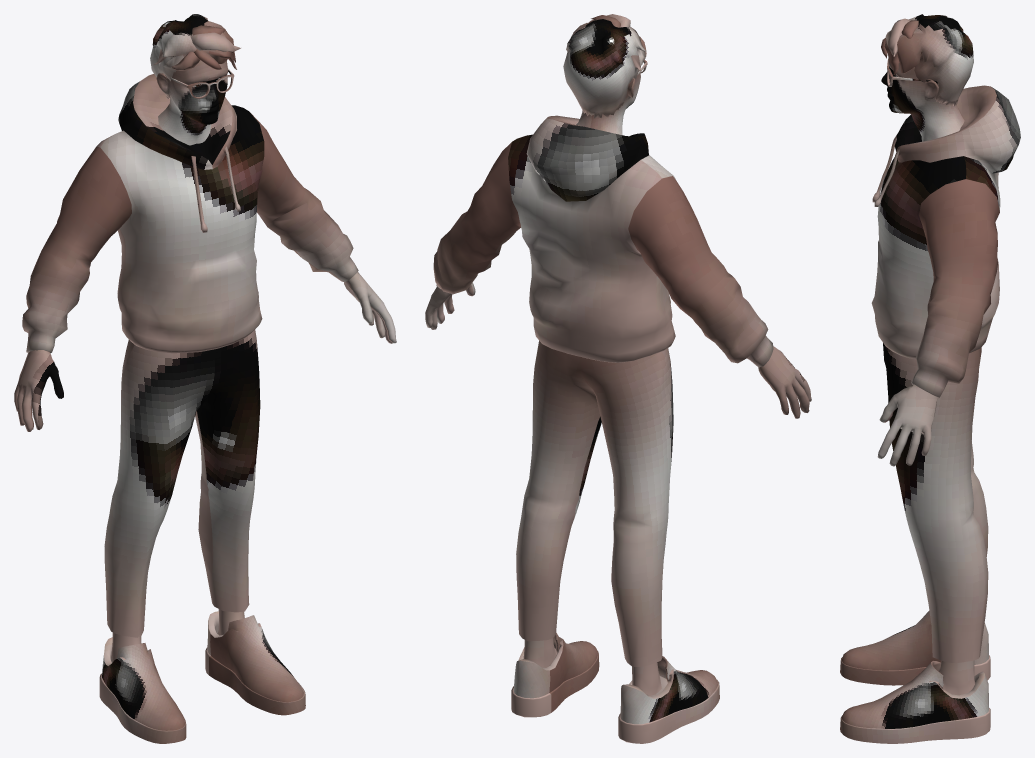
3 renders of one model, left to right at view 1: azimuth 30°, elevation 25°; view 2: azimuth 150°, elevation 25°; view 3: azimuth 270°, elevation 25°, orthographic.
Parts seen in each view (by area): view 1: Wolf3D_Outfit_Top, Wolf3D_Outfit_Bottom, Wolf3D_Outfit_Footwear, Wolf3D_Body, Wolf3D_Head, Wolf3D_Hair; view 2: Wolf3D_Outfit_Top, Wolf3D_Outfit_Bottom, Wolf3D_Outfit_Footwear, Wolf3D_Hair, Wolf3D_Body, Wolf3D_Head; view 3: Wolf3D_Outfit_Top, Wolf3D_Outfit_Bottom, Wolf3D_Outfit_Footwear, Wolf3D_Hair, Wolf3D_Body, Wolf3D_Head.
Part boxes in pixels (left/top/right/bottom): Wolf3D_Outfit_Top: left=22, top=74, right=358, bottom=353; Wolf3D_Outfit_Bottom: left=104, top=329, right=260, bottom=637; Wolf3D_Outfit_Footwear: left=99, top=611, right=305, bottom=743; Wolf3D_Body: left=14, top=272, right=396, bottom=662; Wolf3D_Head: left=156, top=60, right=228, bottom=145; Wolf3D_Hair: left=150, top=14, right=240, bottom=98; Wolf3D_Outfit_Top: left=433, top=115, right=773, bottom=367; Wolf3D_Outfit_Bottom: left=516, top=340, right=673, bottom=666; Wolf3D_Outfit_Footwear: left=511, top=632, right=719, bottom=743; Wolf3D_Hair: left=563, top=14, right=646, bottom=118; Wolf3D_Body: left=425, top=282, right=811, bottom=695; Wolf3D_Head: left=576, top=66, right=640, bottom=135; Wolf3D_Outfit_Top: left=871, top=85, right=1020, bottom=397; Wolf3D_Outfit_Bottom: left=883, top=343, right=988, bottom=663; Wolf3D_Outfit_Footwear: left=840, top=611, right=990, bottom=743; Wolf3D_Hair: left=881, top=14, right=973, bottom=106; Wolf3D_Body: left=877, top=384, right=975, bottom=695; Wolf3D_Head: left=881, top=57, right=964, bottom=141.
Size of the model in its own units: 106 by 186 by 44.55.
9 materials, 9 textured.
